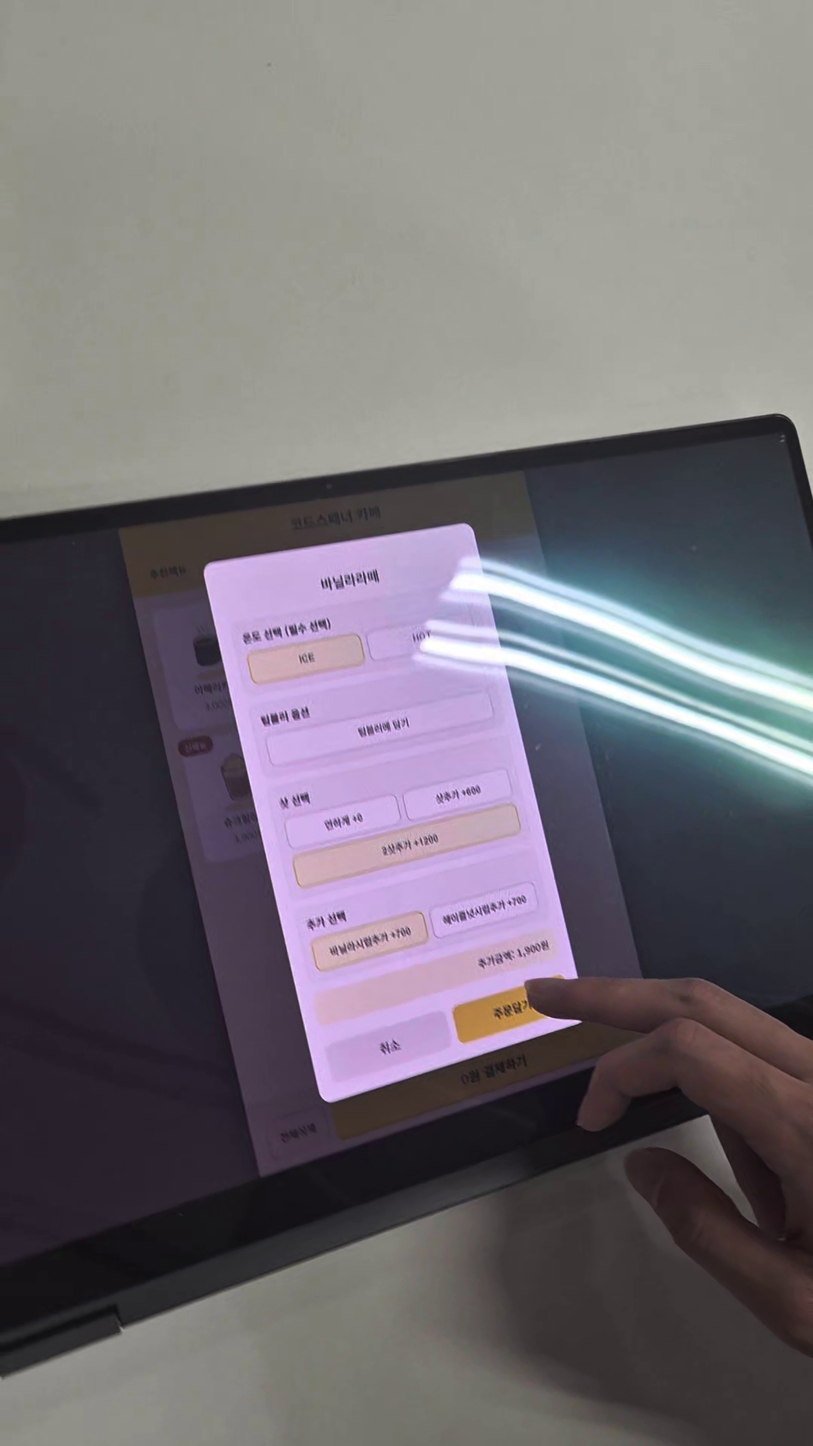action_button: (326, 1011, 454, 1085), (454, 973, 577, 1043)
option_button: (293, 803, 524, 890), (262, 687, 495, 771), (308, 908, 430, 977), (400, 762, 515, 823), (428, 878, 539, 940), (286, 793, 400, 851), (247, 632, 366, 686), (364, 610, 476, 660)
popup_modal: (200, 521, 591, 1105)
